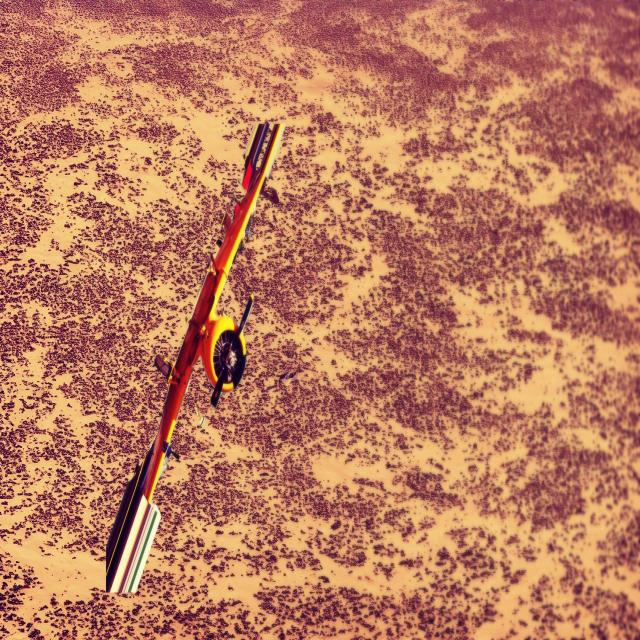airplane: (105, 118, 285, 595)
